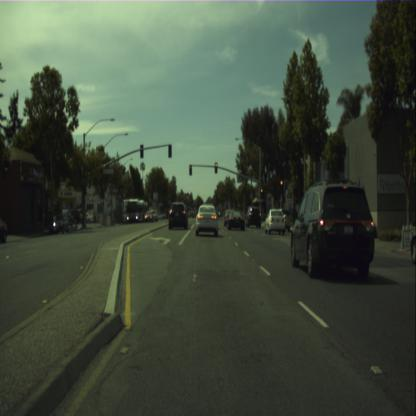Red: (214, 160, 218, 172), (188, 164, 192, 175), (280, 178, 283, 190), (260, 187, 263, 197), (226, 203, 228, 208)
